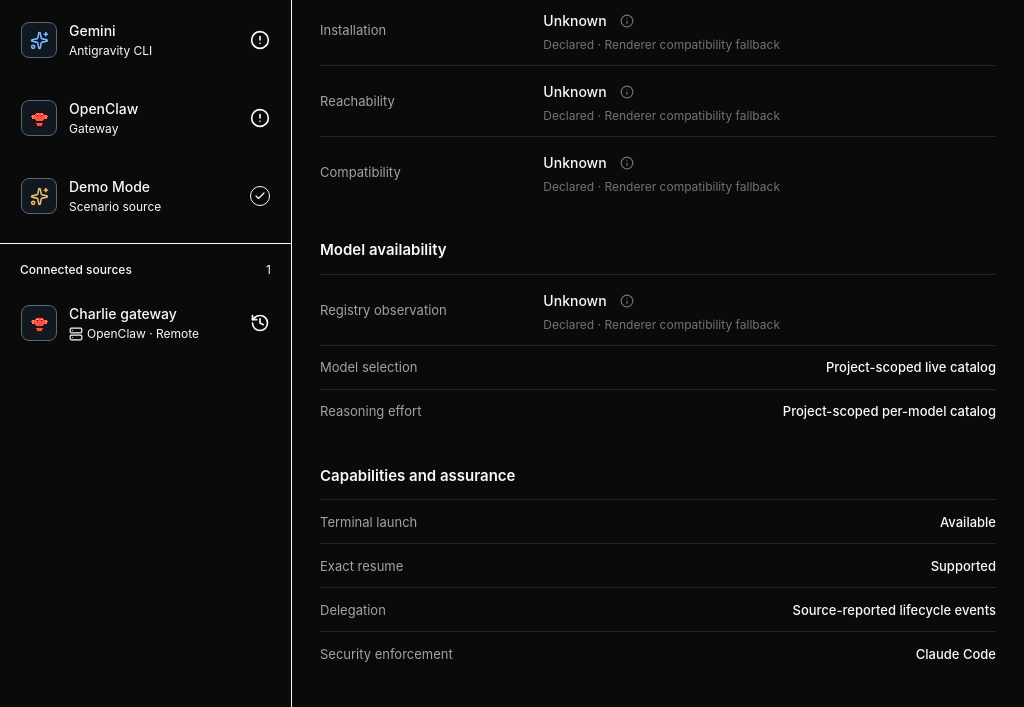
Test case: Connected sources in Agent Source Settings › keeps the observation age legible on its own when the view is stale
(page scrolled)
What coordinates should you click on to do the following:
click the button "Charlie gateway OpenClaw · Remote"
I would click on:
 (146, 323)
Its box is [8,288,283,358].
(page scrolled)
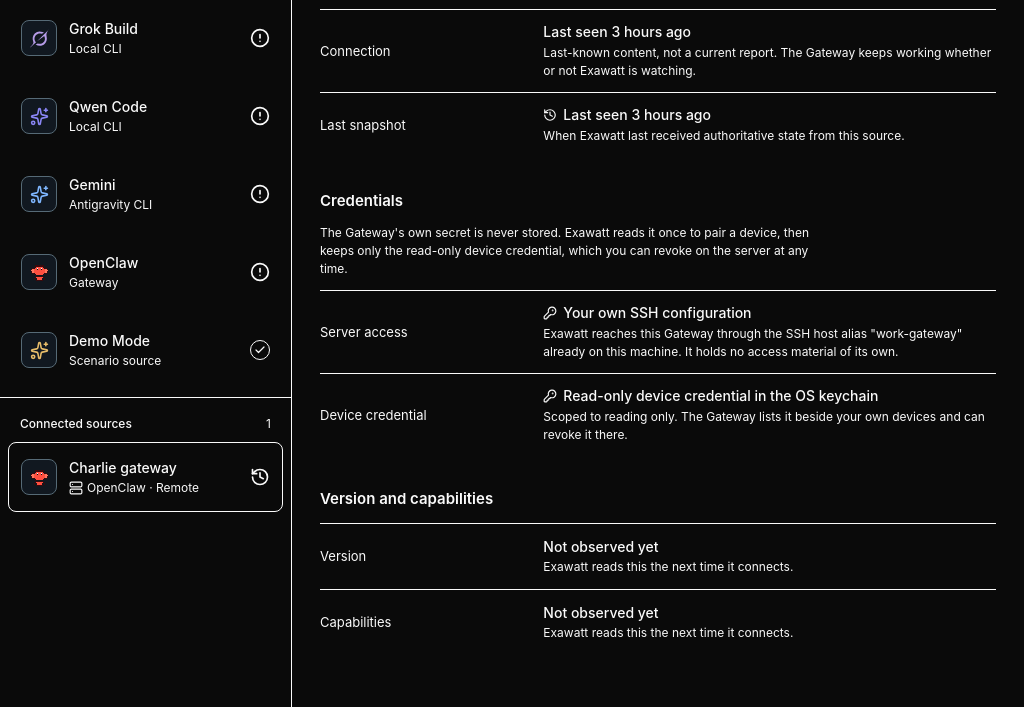
Expected: the element that starts with "Last snapshot" shows "Last seen 3 hours ago", [563,106,711,123]
Expected: the text "The Gateway keeps working whether or not Exawatt" is shown, [543,44,991,78]
